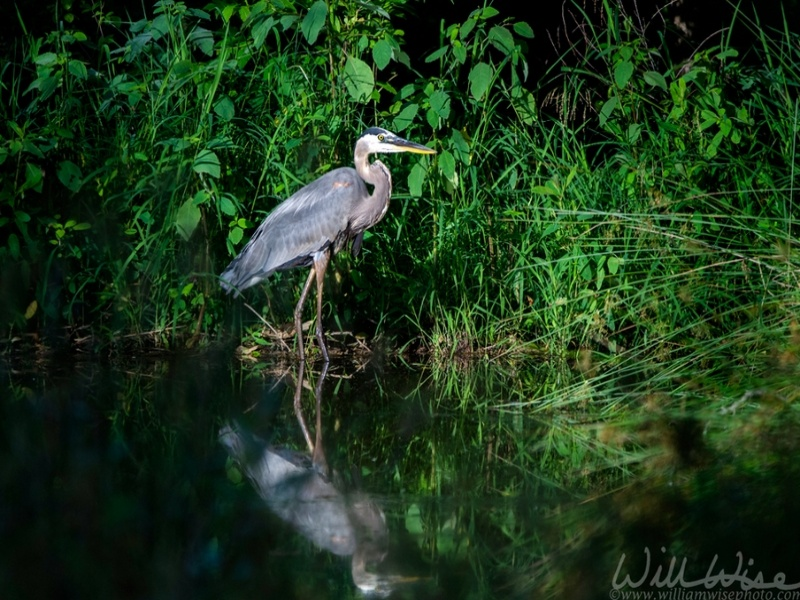heron: (219, 123, 439, 357)
